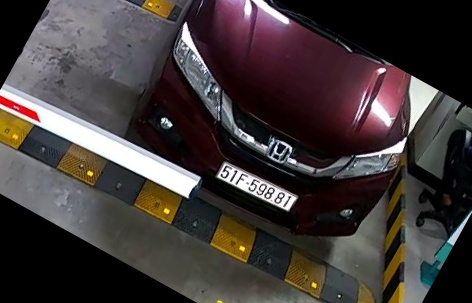plate: (215, 159, 303, 217)
